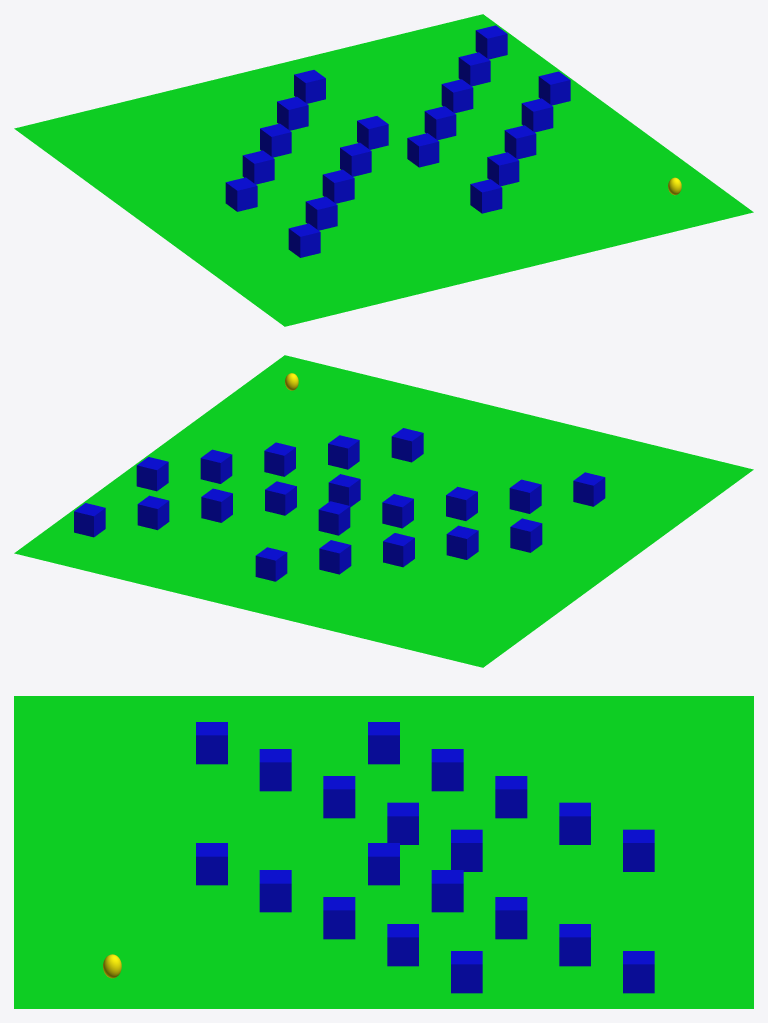
File: ovo.glb
3 renders of one model, top to bottom at view 1: azimuth 30°, elevation 25°; view 2: azimuth 150°, elevation 25°; view 3: azimuth 270°, elevation 25°, orthographic. The views are drawn at different scales.
Visible parts, largest first — view 1: Plane, Cube.010, Cube.016, Cube.005, Cube.015, Cube.003, Cube.006, Cube.018, Cube.001, Cube.002, Cube.004, Cube.007 (+9 smaller); view 2: Plane, Cube.002, Cube.011, Cube.014, Cube.015, Cube.016, Cube.020, Cube.021, Cube.005, Cube.018, Cube.001, Cube.007 (+9 smaller); view 3: Plane, Cube.003, Cube.004, Cube.008, Cube.009, Cube.013, Cube.014, Cube.017, Cube.018, Cube.001, Cube.002, Cube.005 (+9 smaller).
Part boxes in pixels (bbox=[...]): Plane: bbox=[14, 14, 753, 326]; Cube.010: bbox=[407, 133, 439, 167]; Cube.016: bbox=[225, 177, 257, 211]; Cube.005: bbox=[470, 179, 502, 213]; Cube.015: bbox=[288, 223, 320, 257]; Cube.003: bbox=[504, 125, 536, 159]; Cube.006: bbox=[475, 25, 507, 59]; Cube.018: bbox=[242, 150, 274, 184]; Cube.001: bbox=[538, 71, 570, 105]; Cube.002: bbox=[521, 98, 553, 132]; Cube.004: bbox=[487, 152, 519, 186]; Cube.007: bbox=[458, 52, 490, 86]; Plane: bbox=[14, 355, 753, 667]; Cube.002: bbox=[200, 449, 232, 483]; Cube.011: bbox=[318, 501, 350, 535]; Cube.014: bbox=[509, 479, 541, 513]; Cube.015: bbox=[573, 472, 605, 506]; Cube.016: bbox=[510, 518, 542, 552]; Cube.020: bbox=[255, 547, 287, 581]; Cube.021: bbox=[319, 540, 351, 574]; Cube.005: bbox=[391, 428, 423, 462]; Cube.018: bbox=[446, 525, 478, 559]; Cube.001: bbox=[136, 457, 168, 491]; Cube.007: bbox=[137, 495, 169, 530]; Plane: bbox=[14, 696, 753, 1008]; Cube.003: bbox=[323, 897, 355, 939]; Cube.004: bbox=[259, 870, 291, 912]; Cube.008: bbox=[495, 897, 527, 939]; Cube.009: bbox=[431, 870, 463, 912]; Cube.013: bbox=[323, 776, 355, 818]; Cube.014: bbox=[259, 749, 291, 791]; Cube.017: bbox=[495, 776, 527, 818]; Cube.018: bbox=[431, 749, 463, 791]; Cube.001: bbox=[451, 951, 482, 993]; Cube.002: bbox=[387, 924, 418, 966]; Cube.005: bbox=[196, 843, 227, 885].
Size of the model in its own units: 46.46 by 2 by 46.46.
